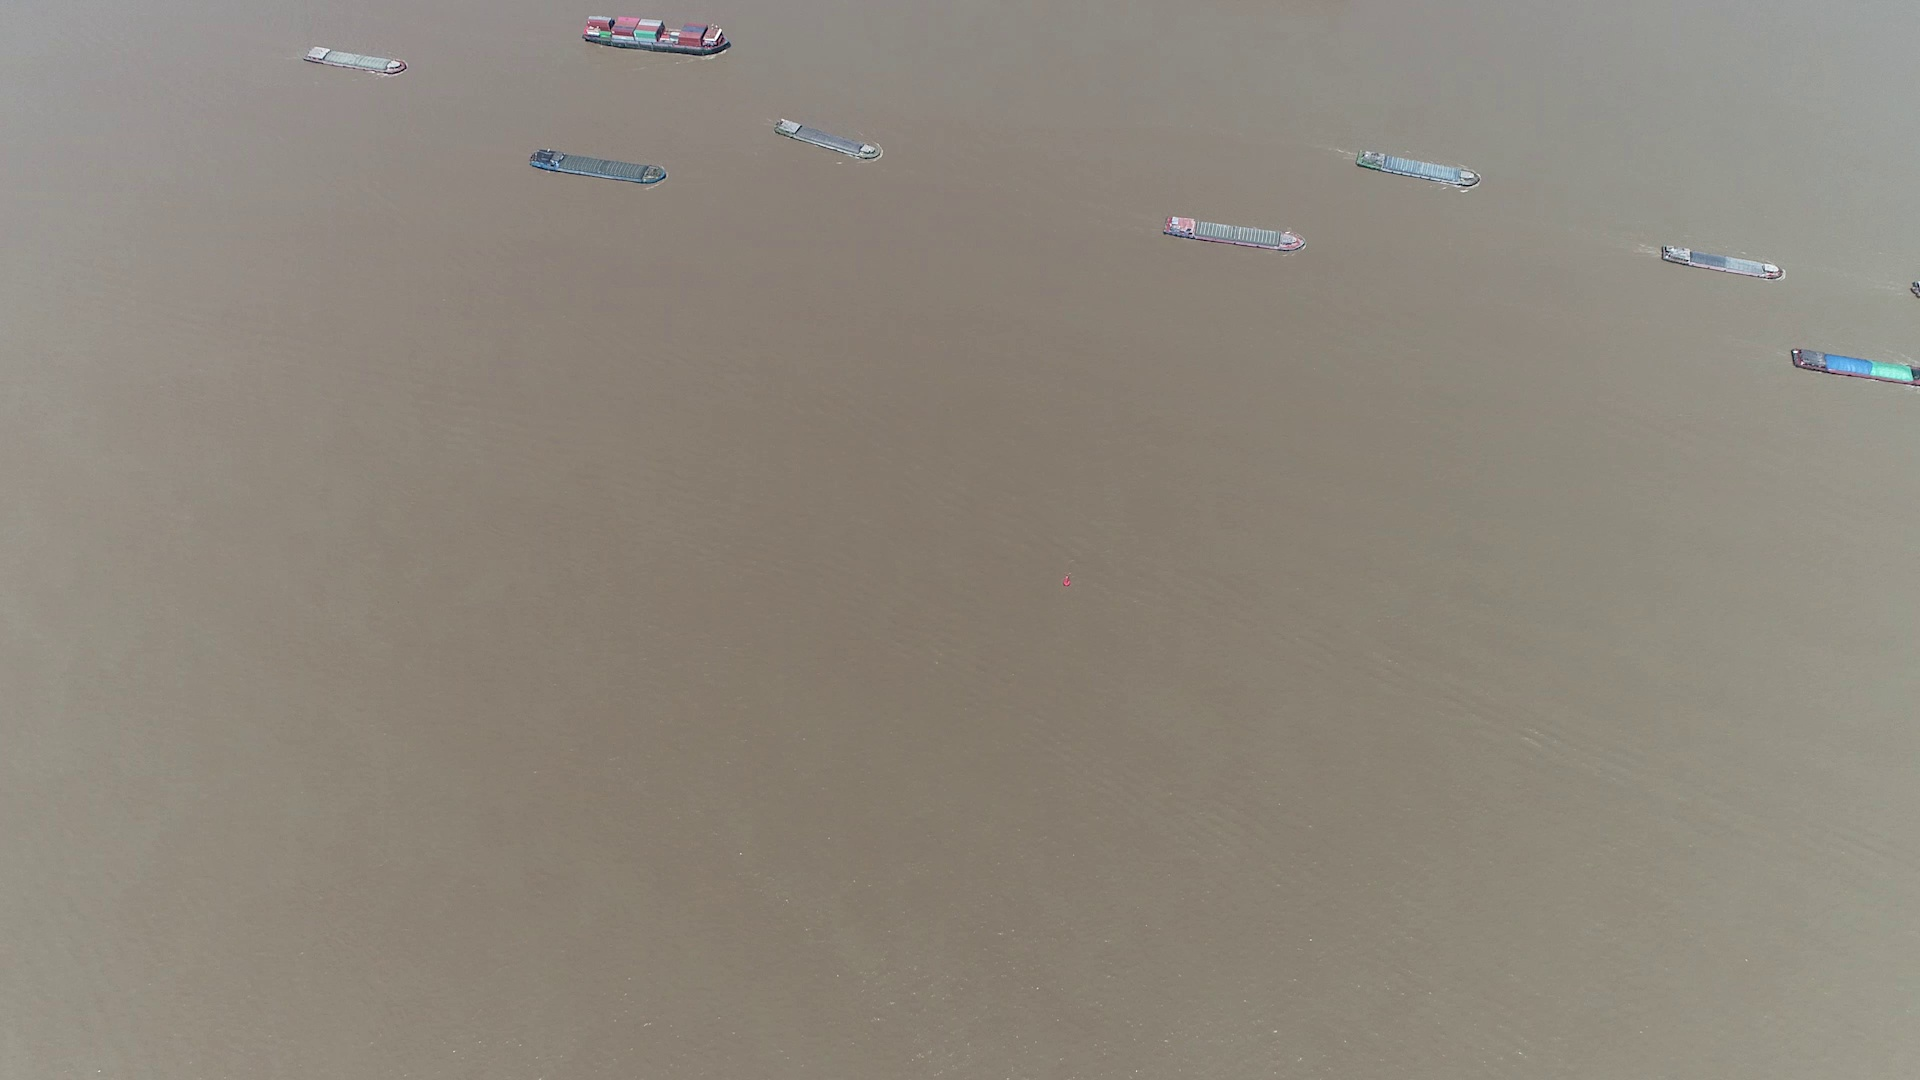ship: (580, 17, 731, 55), (529, 148, 667, 187), (1163, 215, 1304, 253), (1356, 146, 1480, 189), (1789, 348, 1917, 386), (771, 120, 880, 162), (1660, 244, 1783, 280), (303, 45, 405, 75)
